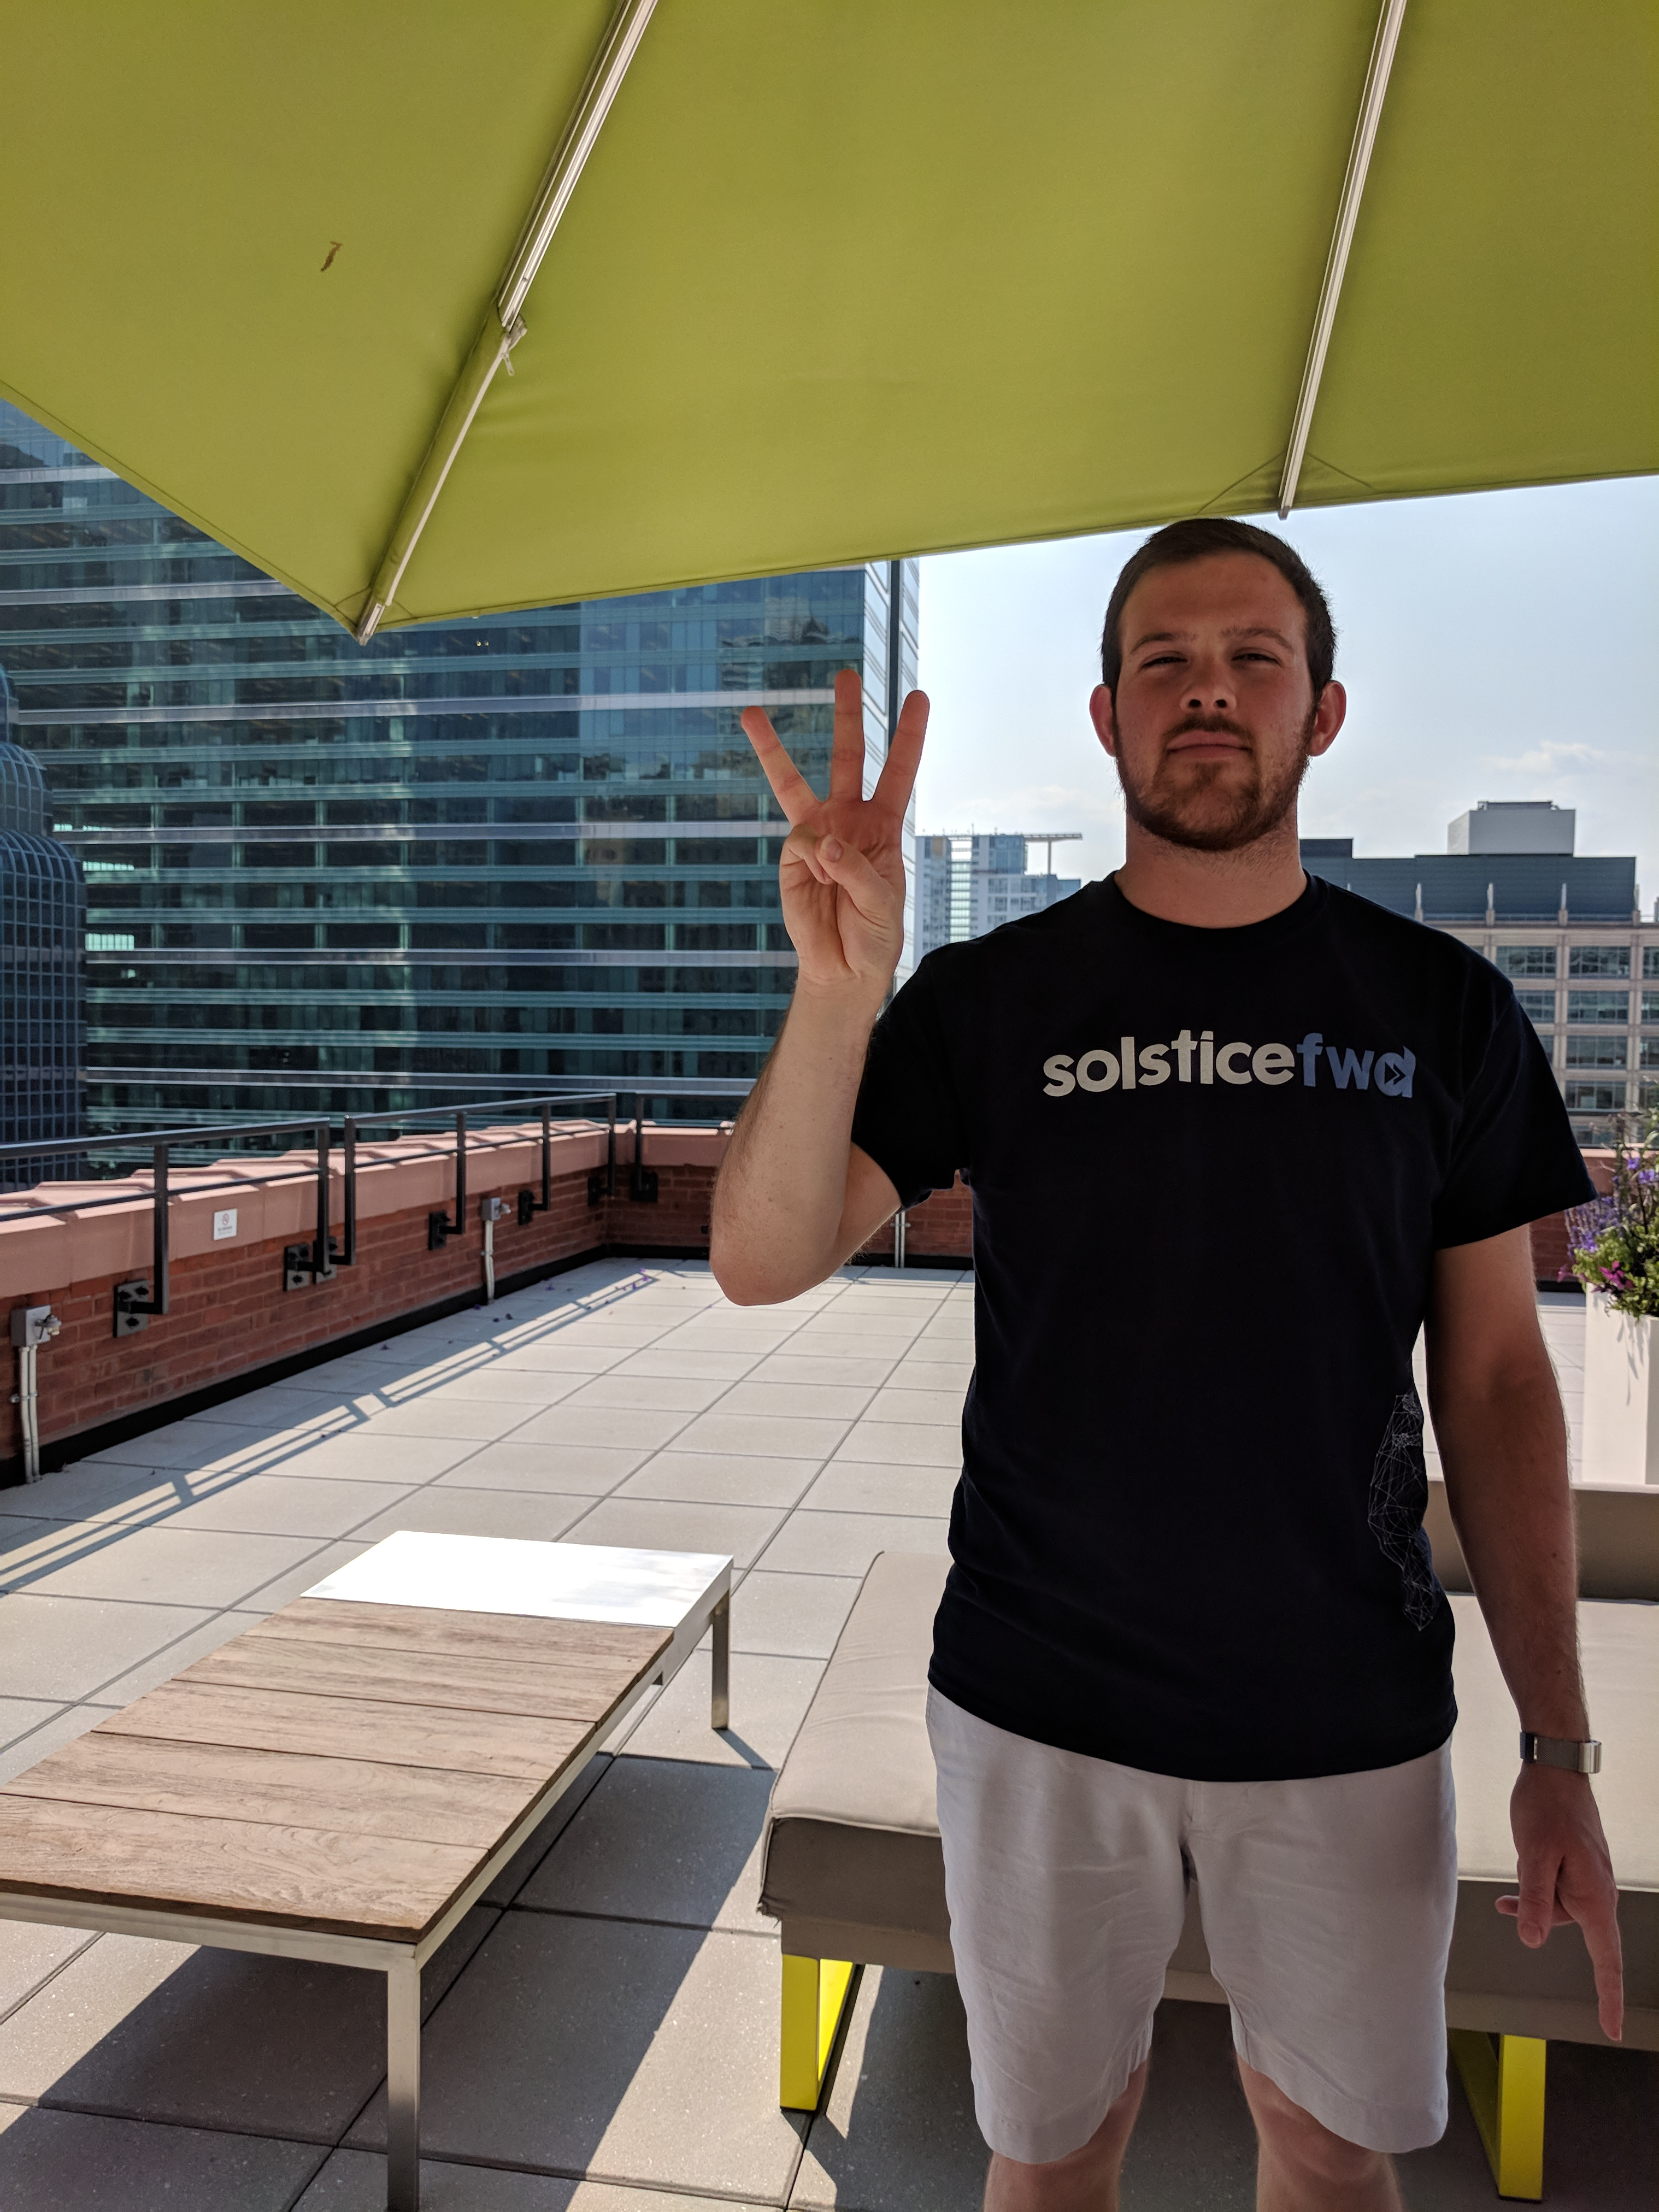w: (725, 660, 941, 1008)
